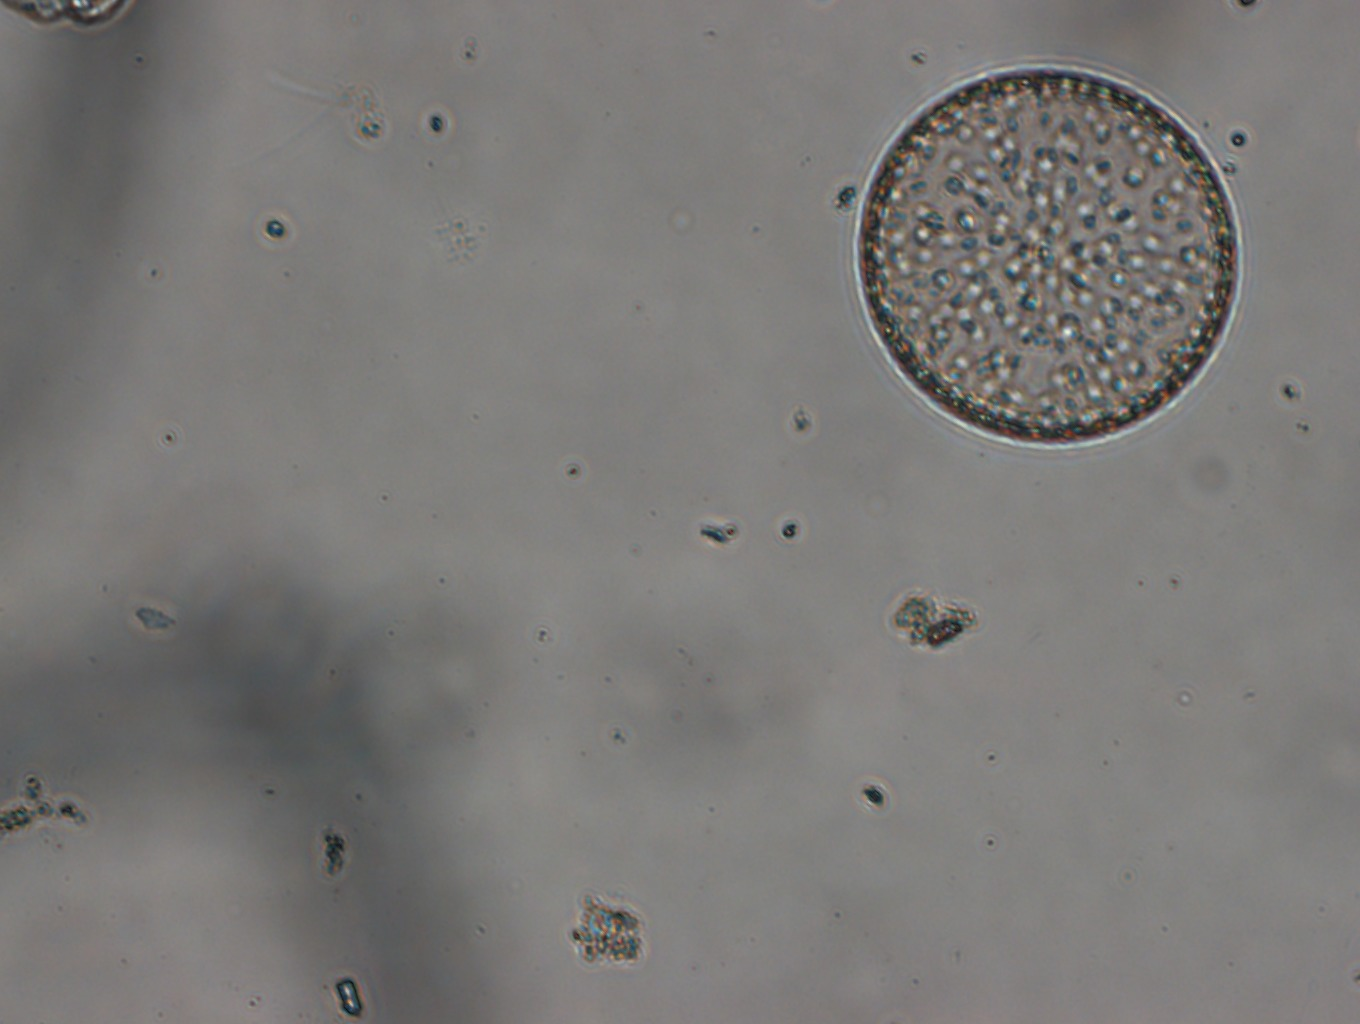coscinodiscus: (849, 58, 1243, 451)
